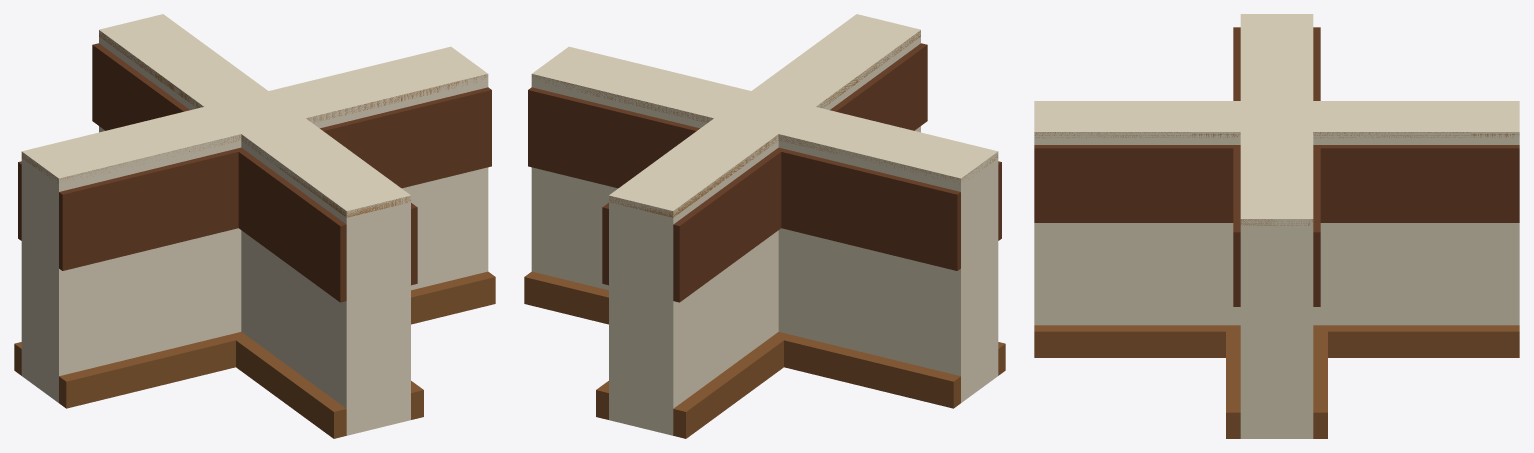
File: partition-cross.glb
The picture shows the model from 3 angles, left to right: view 1: azimuth 30°, elevation 25°; view 2: azimuth 150°, elevation 25°; view 3: azimuth 270°, elevation 25°; orthographic projection. The views are drawn at different scales.
Visible parts, largest first — view 1: partition-cross; view 2: partition-cross; view 3: partition-cross.
Boxes of the visible parts, left/top/right/bottom form: partition-cross: left=14, top=14, right=495, bottom=438; partition-cross: left=524, top=14, right=1005, bottom=438; partition-cross: left=1034, top=14, right=1519, bottom=438.
Size of the model in its own units: 1 by 0.5 by 1.
Materials: 1 (1 with a texture image).
